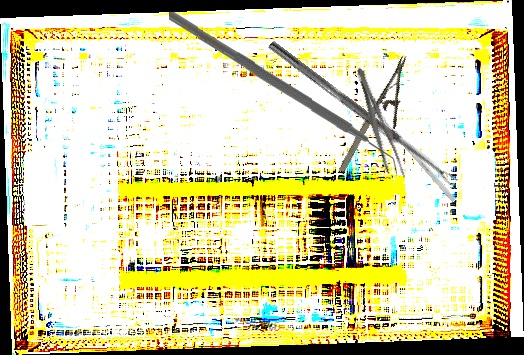Chopper: (166, 12, 400, 182)
Dressing Forceps: (348, 64, 409, 184)
Hook Surgical: (379, 114, 456, 203)
Needle Holder: (335, 54, 430, 184)
Surgical Spoon: (267, 40, 458, 188)
